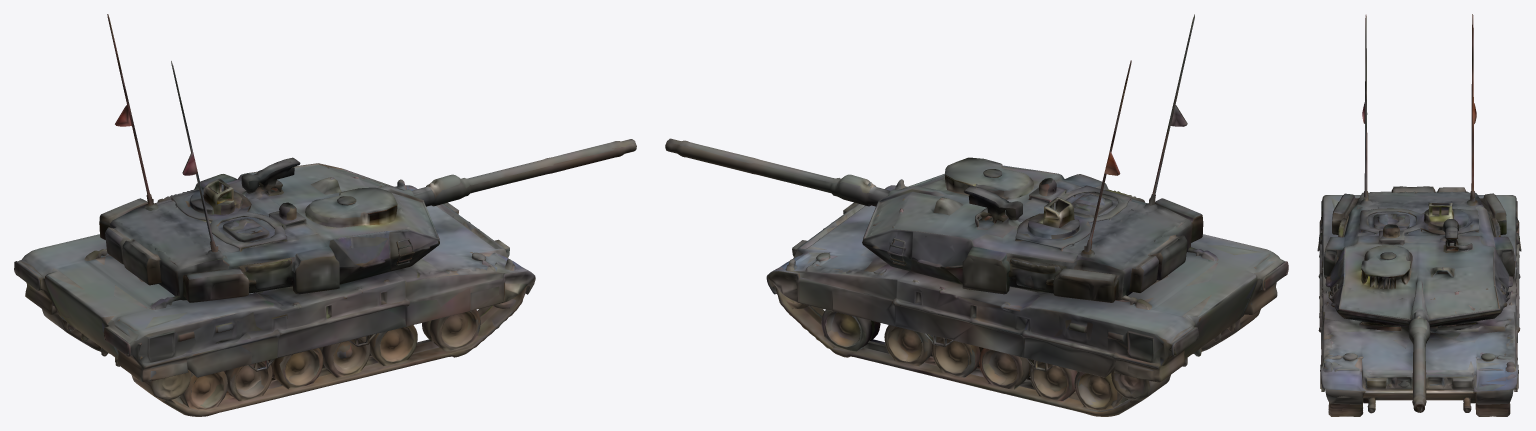
The model's file is leo2a7_opt.glb.
The picture shows the model from 3 angles, left to right: view 1: azimuth 30°, elevation 25°; view 2: azimuth 150°, elevation 25°; view 3: azimuth 270°, elevation 25°; orthographic projection. The views are drawn at different scales.
Visible parts, largest first — view 1: node_0; view 2: node_0; view 3: node_0.
Part boxes in pixels (x1,y1,x2,y2): node_0: (14, 14, 636, 416); node_0: (665, 14, 1288, 416); node_0: (1317, 14, 1521, 416).
Bounding box in the file's own units: 1.1 × 0.6466 × 0.4114.
Materials: 1 (1 with a texture image).
